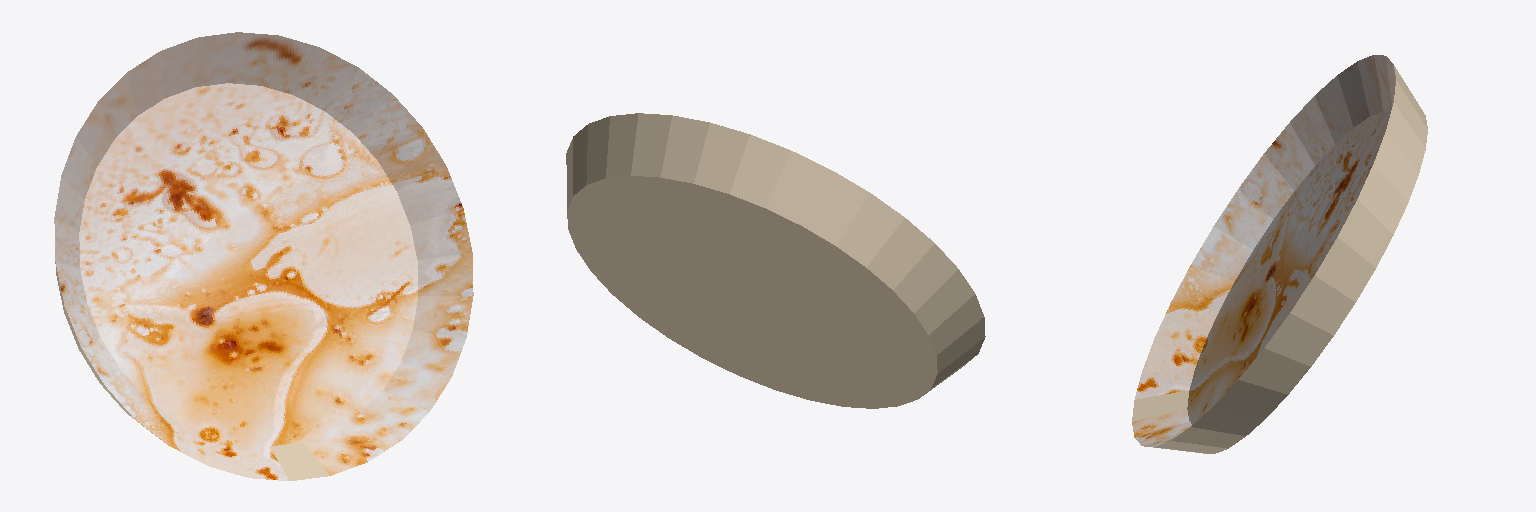
3 renders of one model, left to right at view 1: azimuth 30°, elevation 25°; view 2: azimuth 150°, elevation 25°; view 3: azimuth 270°, elevation 25°, orthographic.
Parts seen in each view (by area): view 1: Cilindro.035_Cilindro.038; view 2: Cilindro.035_Cilindro.038; view 3: Cilindro.035_Cilindro.038.
Boxes of the visible parts, x1,y1,x2,y2 form: Cilindro.035_Cilindro.038: [54, 32, 473, 480]; Cilindro.035_Cilindro.038: [566, 113, 985, 408]; Cilindro.035_Cilindro.038: [1132, 55, 1427, 453].
Size of the model in its own units: 0.24 by 0.2024 by 0.1542.
2 materials, 2 textured.